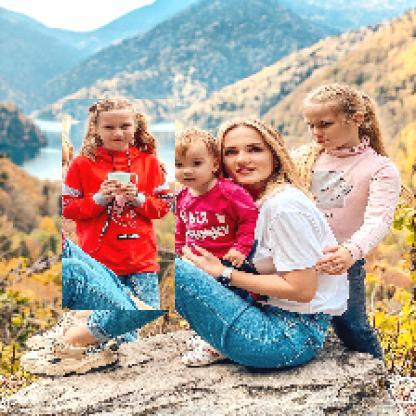child: (307, 83, 402, 360), (63, 100, 177, 312), (165, 128, 260, 301)
